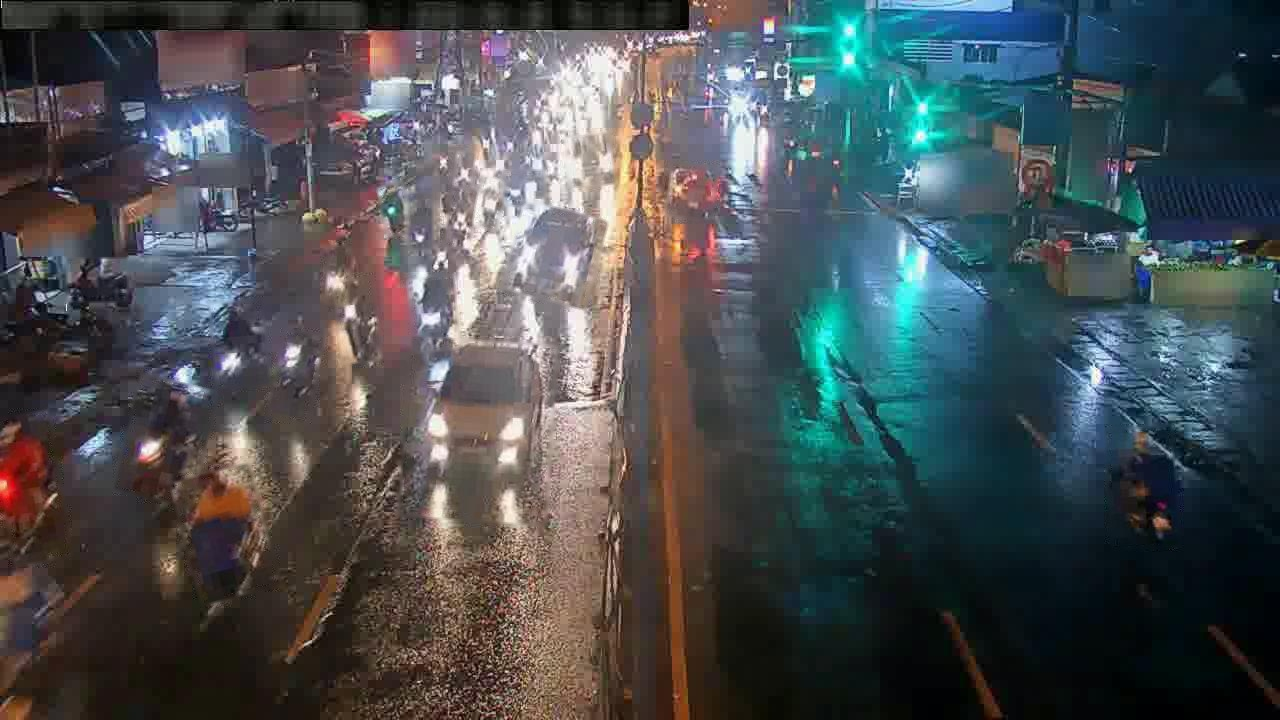Car: (428, 341, 544, 480), (512, 206, 596, 298), (562, 134, 614, 181), (669, 167, 719, 214)
Motorcyclist: (188, 470, 261, 615), (127, 385, 197, 506), (0, 416, 59, 551), (1109, 431, 1179, 539), (214, 304, 264, 379), (70, 260, 133, 309), (415, 273, 453, 353), (277, 332, 320, 402), (341, 288, 379, 363), (442, 189, 473, 246), (503, 171, 542, 208), (478, 177, 504, 229), (325, 245, 350, 299), (408, 201, 432, 255), (380, 187, 406, 235), (450, 151, 475, 186)
